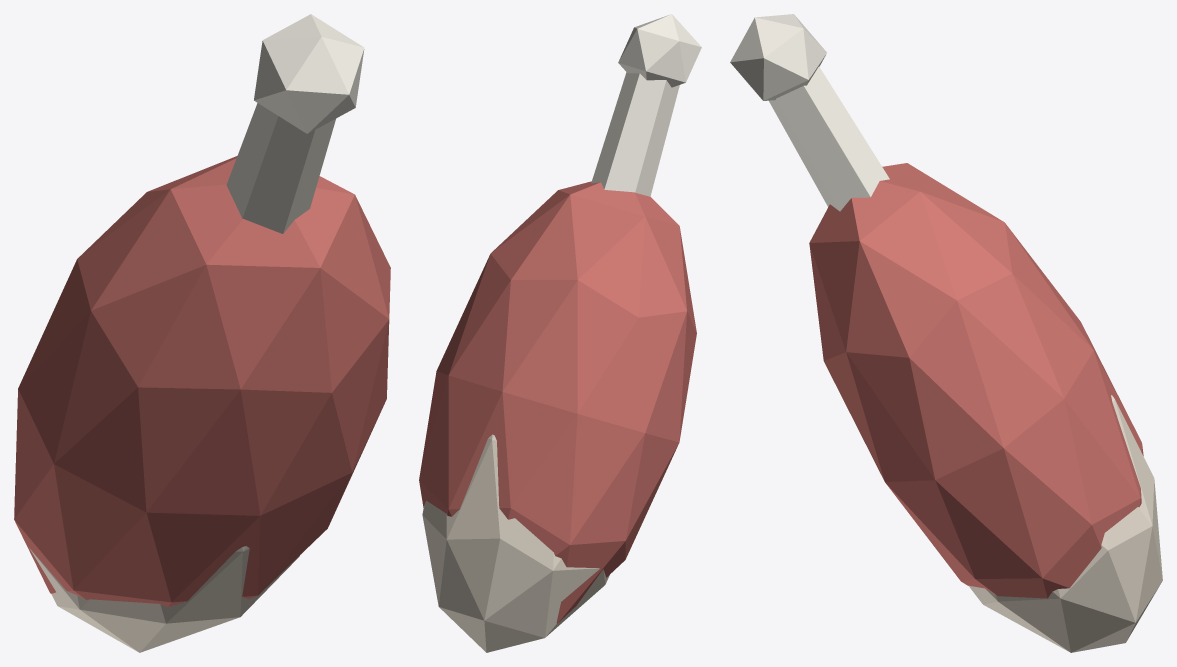
Rendered from load_meat.glb.
3 views of the same model, side by side, from view 1: azimuth 30°, elevation 25°; view 2: azimuth 150°, elevation 25°; view 3: azimuth 270°, elevation 25° (orthographic). The views are drawn at different scales.
Visible parts, largest first — view 1: Goods.Meat, Goods.Meat.Knob, Goods.Meat.Bone, Goods.Meat.Fat; view 2: Goods.Meat, Goods.Meat.Fat, Goods.Meat.Bone, Goods.Meat.Knob; view 3: Goods.Meat, Goods.Meat.Fat, Goods.Meat.Bone, Goods.Meat.Knob.
Part boxes in pixels (<box>): Goods.Meat: <box>14,156,390,606</box>; Goods.Meat.Knob: <box>254,14,364,133</box>; Goods.Meat.Bone: <box>226,103,335,233</box>; Goods.Meat.Fat: <box>29,546,299,652</box>; Goods.Meat: <box>419,181,696,623</box>; Goods.Meat.Fat: <box>422,434,609,652</box>; Goods.Meat.Bone: <box>591,72,679,196</box>; Goods.Meat.Knob: <box>618,14,701,87</box>; Goods.Meat: <box>809,163,1143,598</box>; Goods.Meat.Fat: <box>968,395,1162,652</box>; Goods.Meat.Bone: <box>769,66,889,211</box>; Goods.Meat.Knob: <box>730,14,826,100</box>.
Size of the model in its own units: 0.2128 by 0.4771 by 0.3061.
